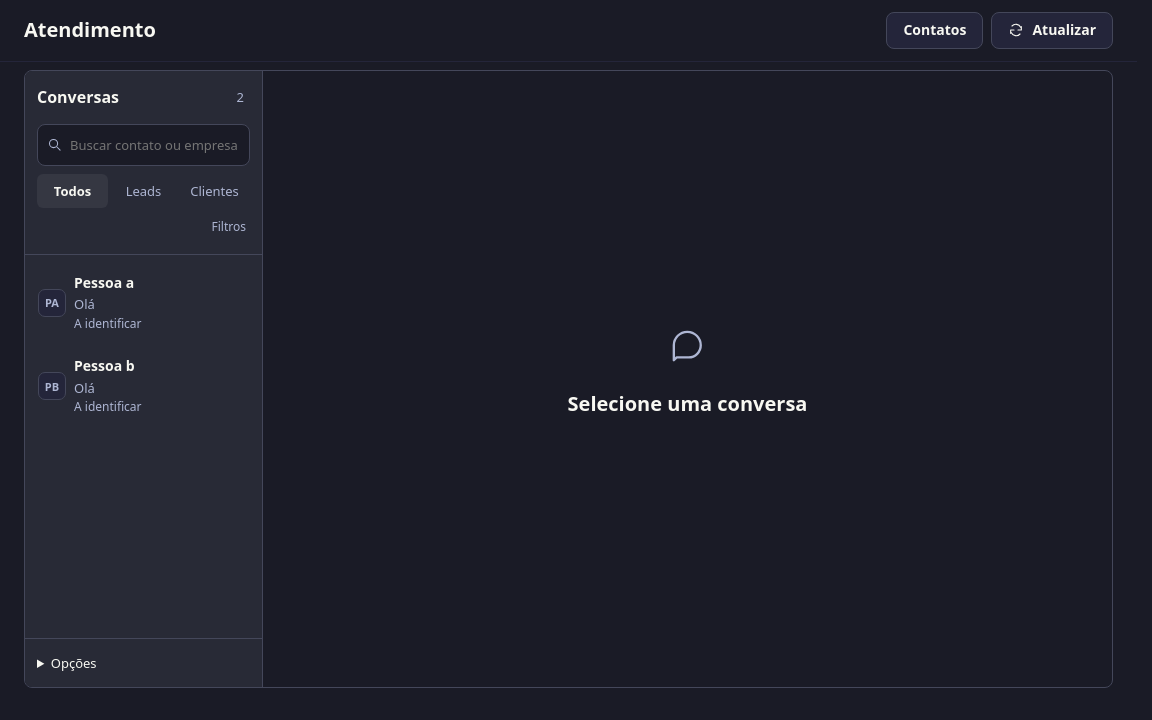
Scenario: mensagem pronta não substitui um rascunho existente nem conta uso
The image size is (1152, 720).
Click the button with test id "conversa-a". click: (144, 303)
box: x1=30 y1=262 x2=257 y2=343
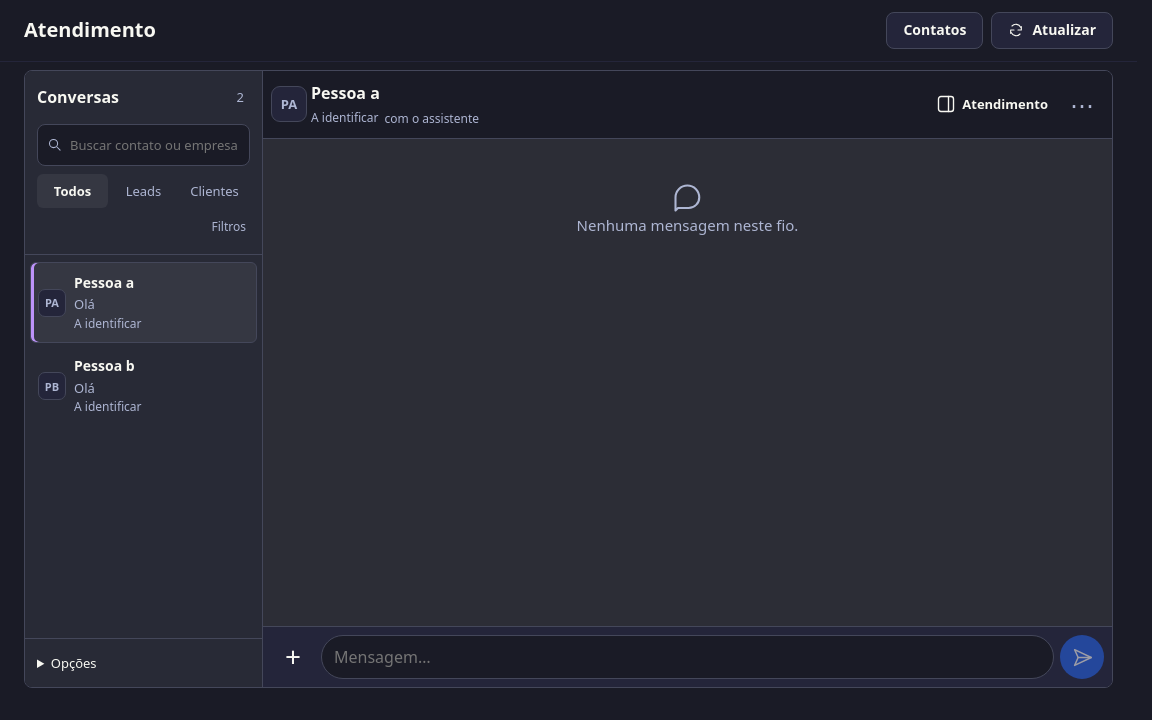
Type "Texto já digitado" into the text box named "Responder ao cliente". click: (688, 657)
box: x1=321 y1=635 x2=1054 y2=679
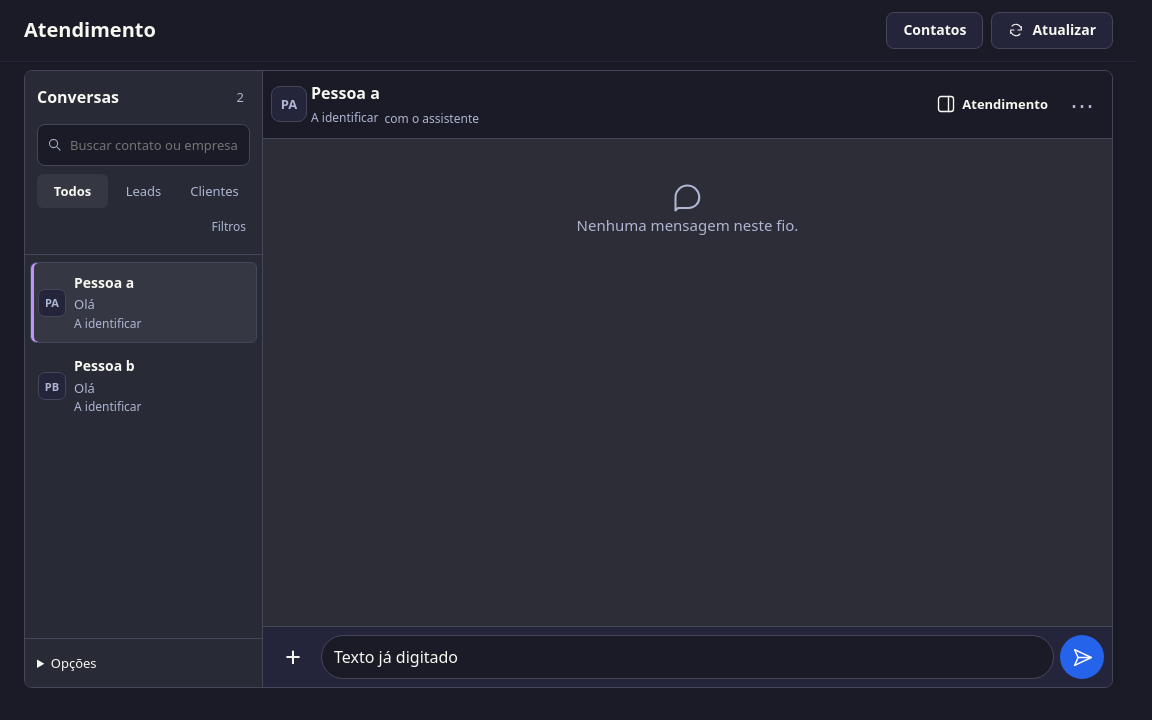
Click the button named "Ações da mensagem e arquivos". click: (293, 657)
box: x1=271 y1=635 x2=315 y2=679
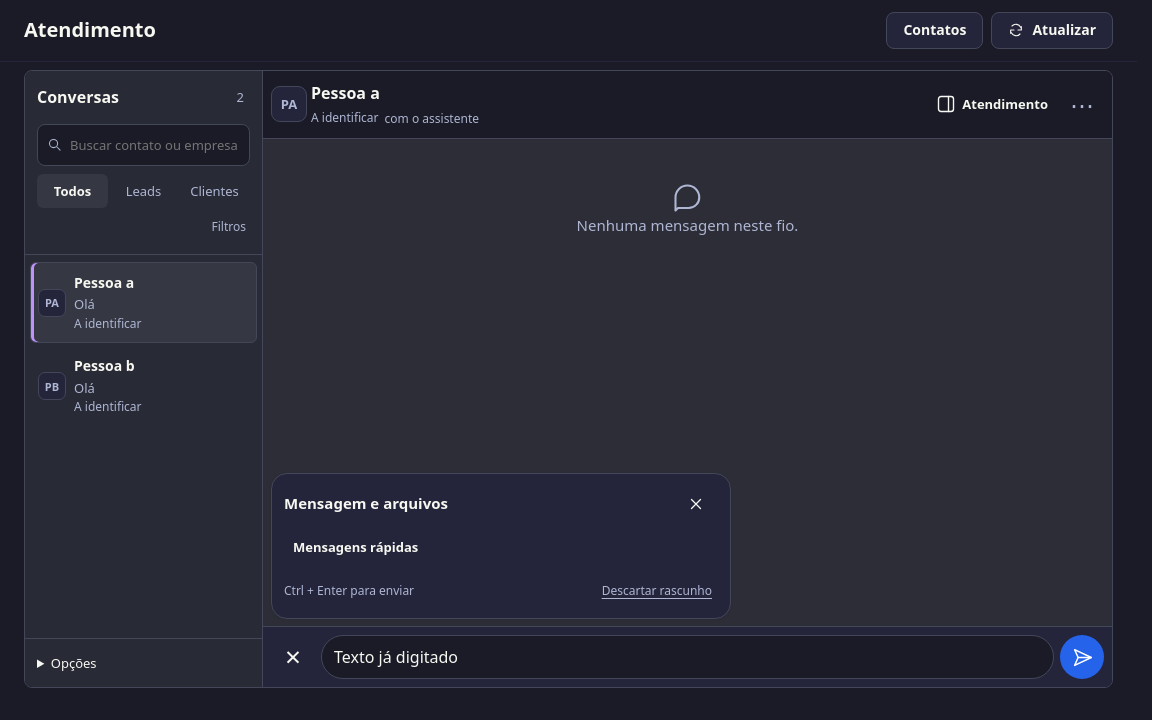
Click the button "Mensagens rápidas". click: (356, 547)
box: x1=284 y1=530 x2=718 y2=566
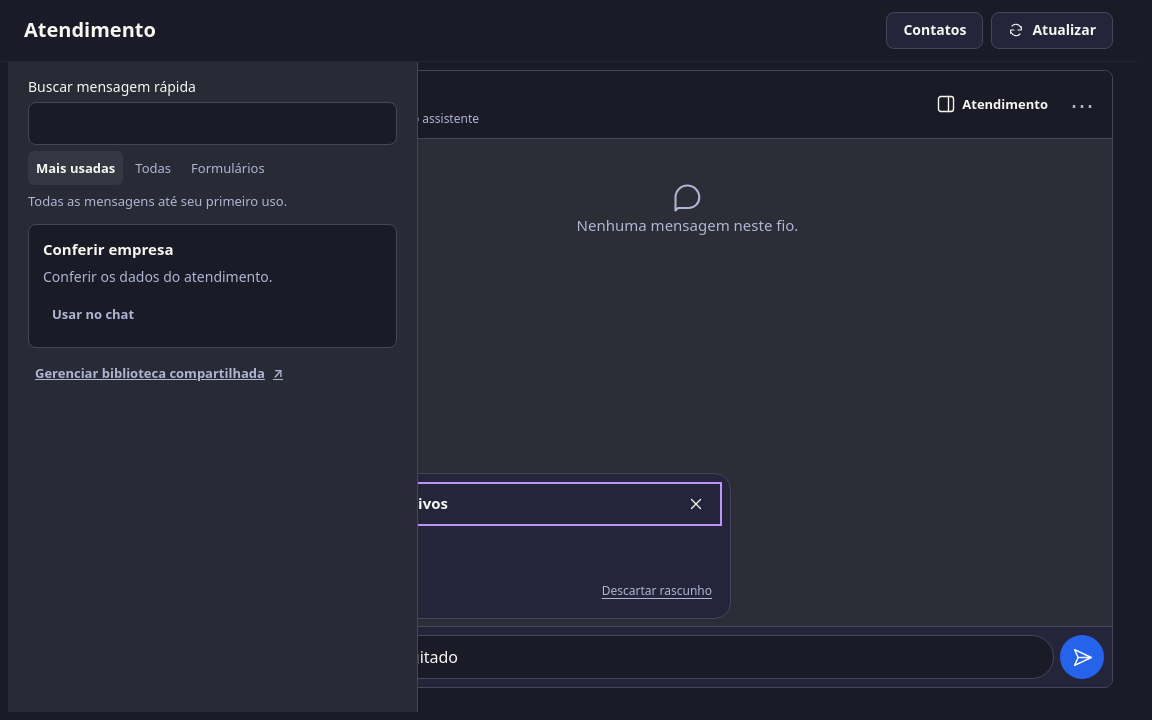
Click the button "Usar no chat". click: (93, 315)
box: x1=43 y1=297 x2=143 y2=333
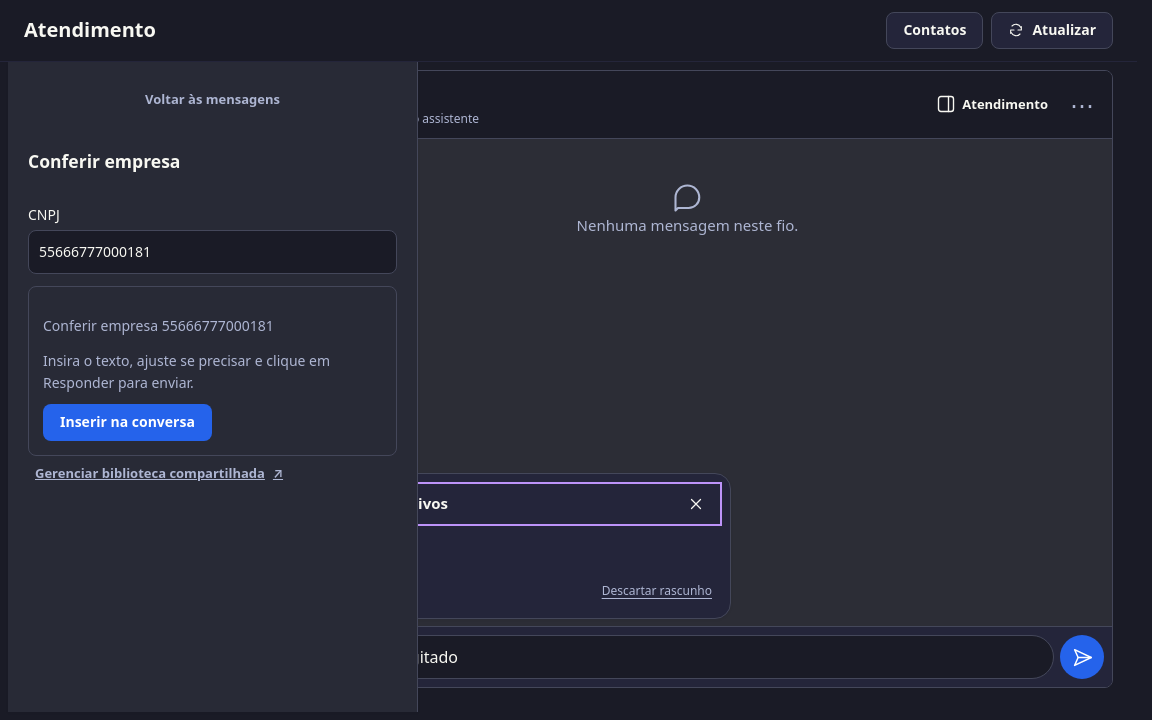
Click the button "Inserir na conversa". click: (127, 422)
box: x1=43 y1=404 x2=212 y2=441
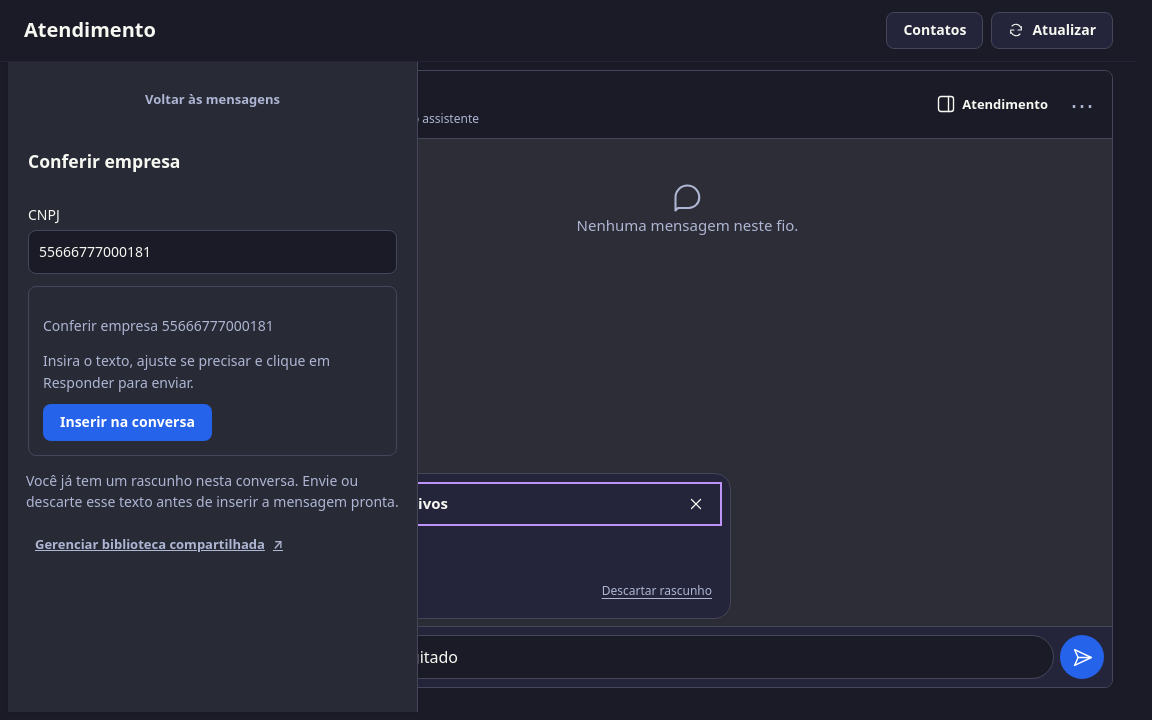
Check: the message shows "já tem um rascunho", box x1=26 y1=471 x2=399 y2=511
